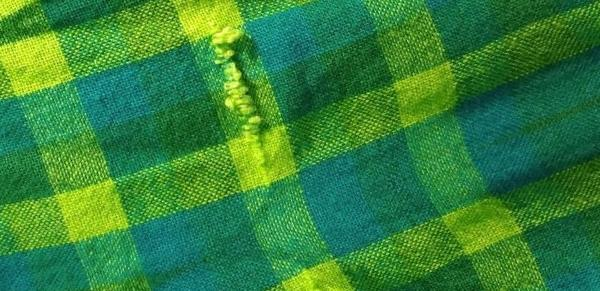knot: (212, 25, 267, 174)
